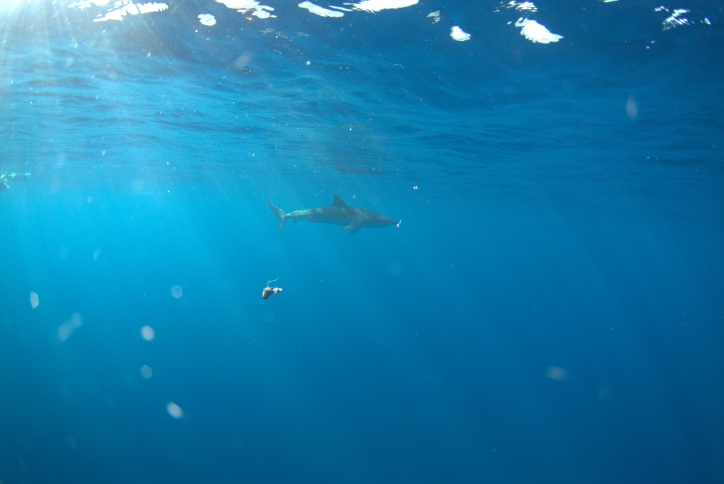Sedoso: (260, 185, 406, 241)
